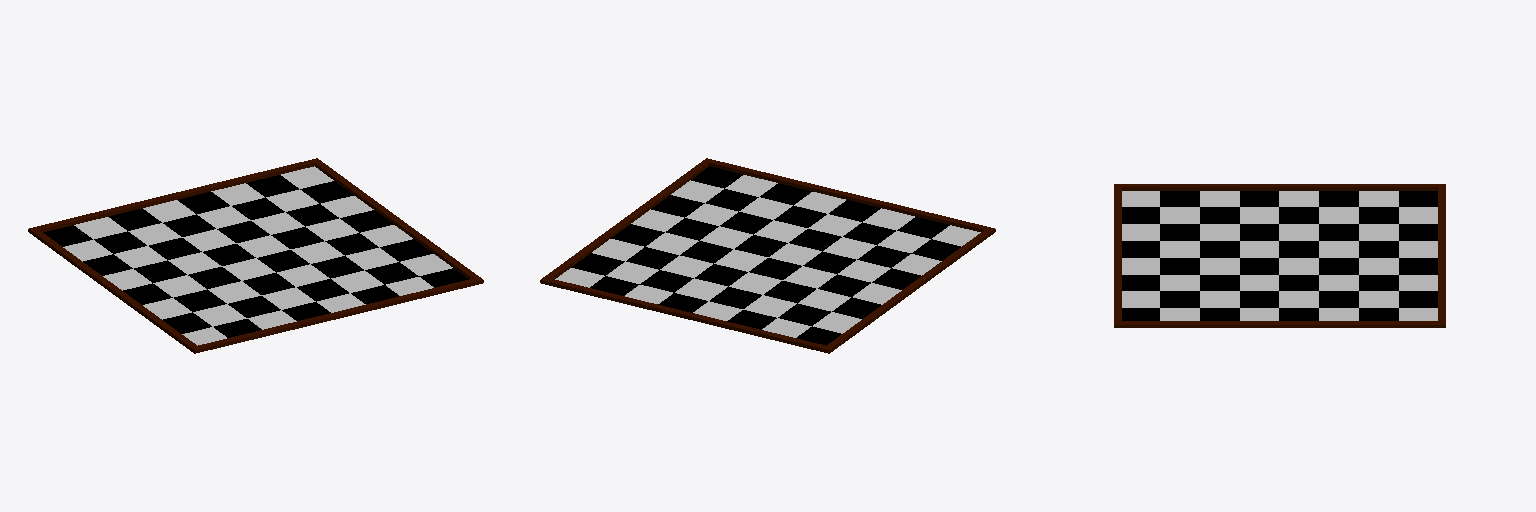
Rendered from Chessboard.obj.
3 views of the same model, side by side, from view 1: azimuth 30°, elevation 25°; view 2: azimuth 150°, elevation 25°; view 3: azimuth 270°, elevation 25° (orthographic).
Parts seen in each view (by area): view 1: Tabu_Plane.064, Cube.003, Cube.002, Cube.001, Cube; view 2: Tabu_Plane.064, Cube.002, Cube.003, Cube, Cube.001; view 3: Tabu_Plane.064, Cube.001, Cube, Cube.002, Cube.003.
Boxes of the visible parts, x1,y1,x2,y2 form: Tabu_Plane.064: [43, 166, 468, 345]; Cube.003: [191, 279, 476, 353]; Cube.002: [36, 158, 320, 231]; Cube.001: [315, 161, 483, 284]; Cube: [28, 227, 196, 350]; Tabu_Plane.064: [555, 166, 980, 345]; Cube.002: [540, 277, 825, 351]; Cube.003: [709, 160, 995, 234]; Cube: [823, 230, 991, 353]; Cube.001: [545, 158, 711, 278]; Tabu_Plane.064: [1122, 191, 1437, 320]; Cube.001: [1114, 321, 1437, 327]; Cube: [1122, 184, 1445, 190]; Cube.002: [1438, 187, 1445, 327]; Cube.003: [1114, 184, 1121, 320].
Bounding box in the file's own units: 8.4 × 0.1 × 8.37.